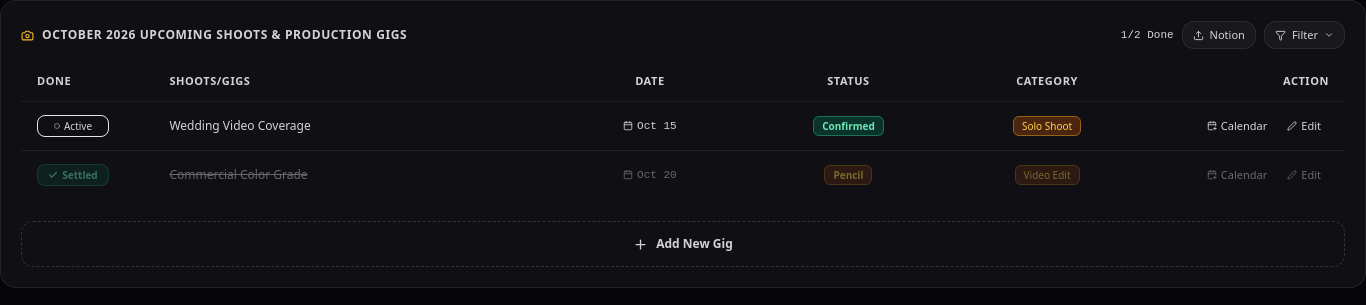
Test: ShootsTable - Notion Sync Interactions › shows partial failure message when batch fails mid-sync
Click the button with aria-label "Sync to Notion": x=1219, y=35 [1182,21,1256,49]
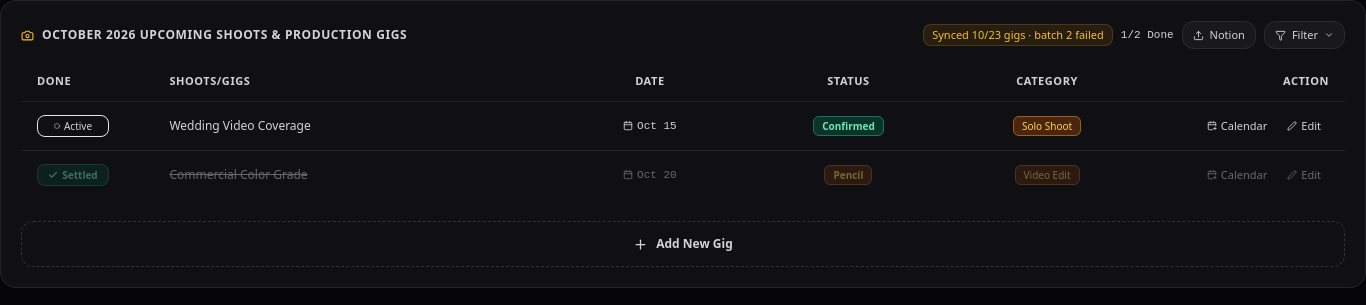
expect the text with test id "notion-sync-status" reads "Synced 10/23 gigs · batch 2 failed": met, box [932,27,1104,42]
